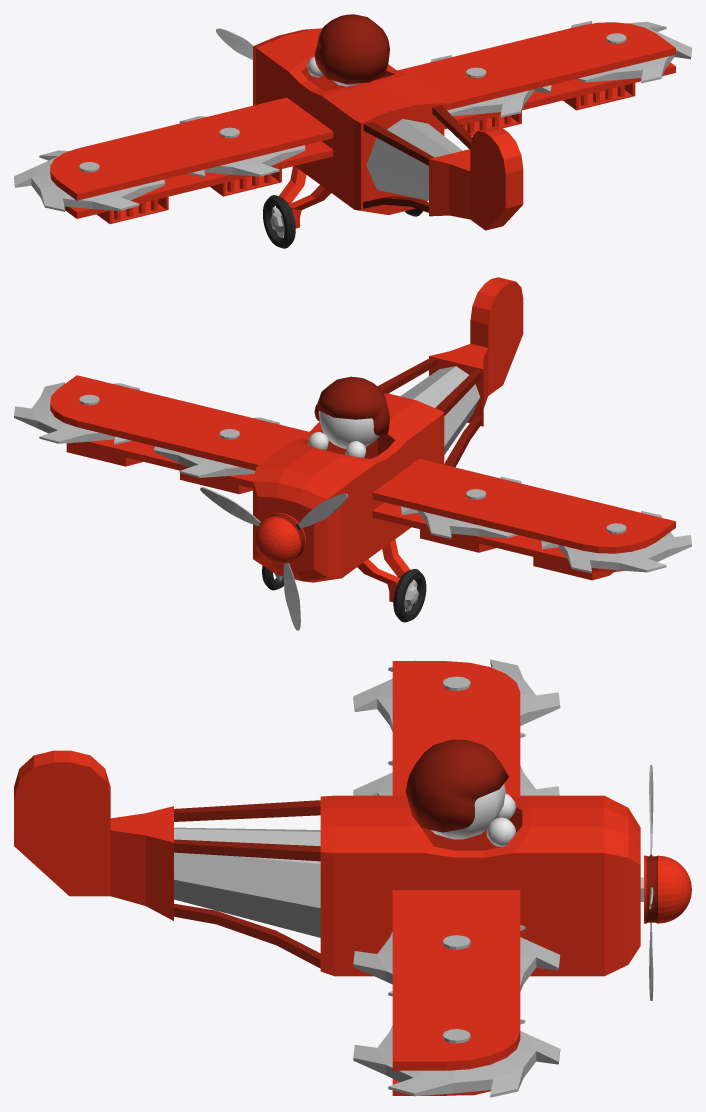
Rendered from Aviao.fbx.
The picture shows the model from 3 angles, top to bottom: view 1: azimuth 30°, elevation 25°; view 2: azimuth 150°, elevation 25°; view 3: azimuth 270°, elevation 25°; orthographic projection. The views are drawn at different scales.
Parts seen in each view (by area): view 1: Cube.005, Cube.006, Cube.002, Cube.003, Cube.001, Sphere.016; view 2: Cube.005, Sphere.016, Cube.006, Cube.002, Cube.003, Cube.001; view 3: Cube.005, Cube.002, Sphere.016, Cube.006, Cube.001, Cube.003.
Boxes of the visible parts, left/top/right/bottom form: Cube.005: left=50, top=14, right=675, bottom=248; Cube.006: left=14, top=150, right=164, bottom=211; Cube.002: left=571, top=21, right=691, bottom=83; Cube.003: left=179, top=116, right=305, bottom=177; Cube.001: left=430, top=55, right=551, bottom=117; Sphere.016: left=216, top=28, right=252, bottom=59; Cube.005: left=50, top=277, right=675, bottom=622; Sphere.016: left=200, top=487, right=347, bottom=630; Cube.006: left=541, top=511, right=691, bottom=573; Cube.002: left=14, top=382, right=139, bottom=444; Cube.003: left=401, top=476, right=521, bottom=538; Cube.001: left=154, top=417, right=279, bottom=477; Cube.005: left=14, top=661, right=643, bottom=1095; Cube.002: left=353, top=1019, right=560, bottom=1097; Sphere.016: left=644, top=765, right=691, bottom=1000; Cube.006: left=353, top=659, right=560, bottom=737; Cube.001: left=353, top=925, right=560, bottom=996; Cube.003: left=353, top=760, right=559, bottom=795.
Size of the model in its own units: 253 by 81.13 by 166.
